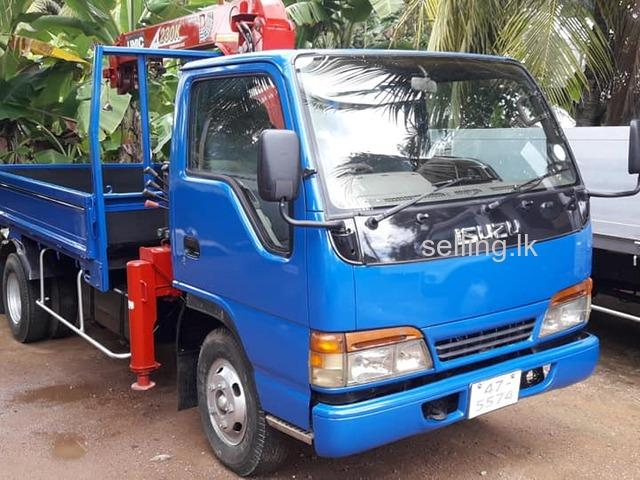truck: (1, 44, 640, 480)
